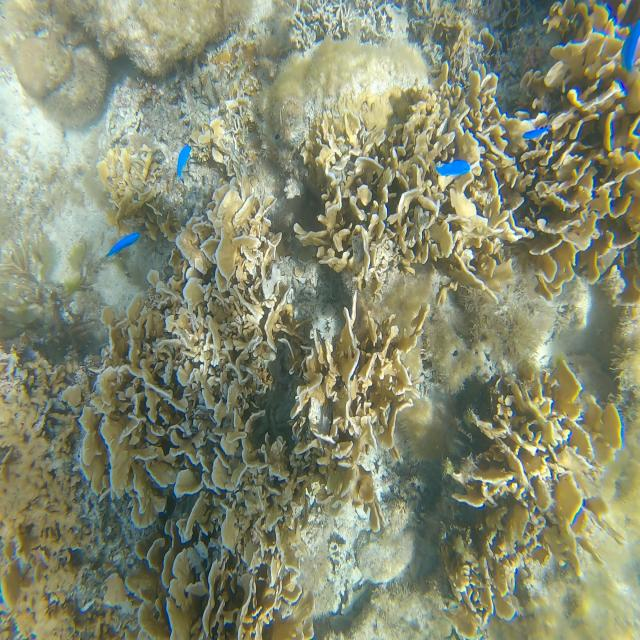rurisuzumedai: (622, 19, 640, 71), (106, 232, 139, 256), (436, 160, 470, 176), (177, 145, 191, 177), (523, 127, 548, 139)
